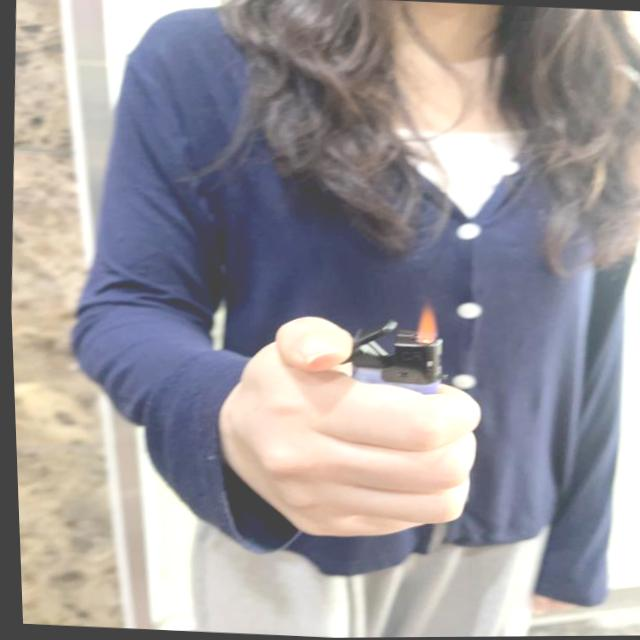Fire: (414, 307, 439, 343)
